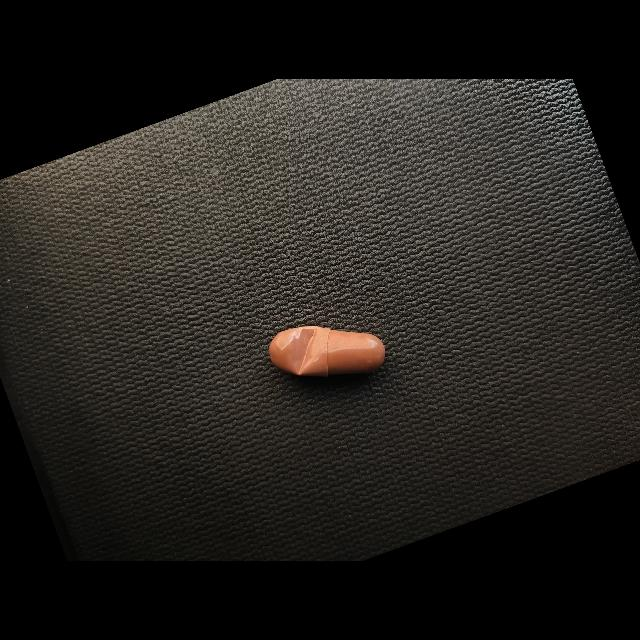Defective Capsule: (281, 328, 324, 375)
